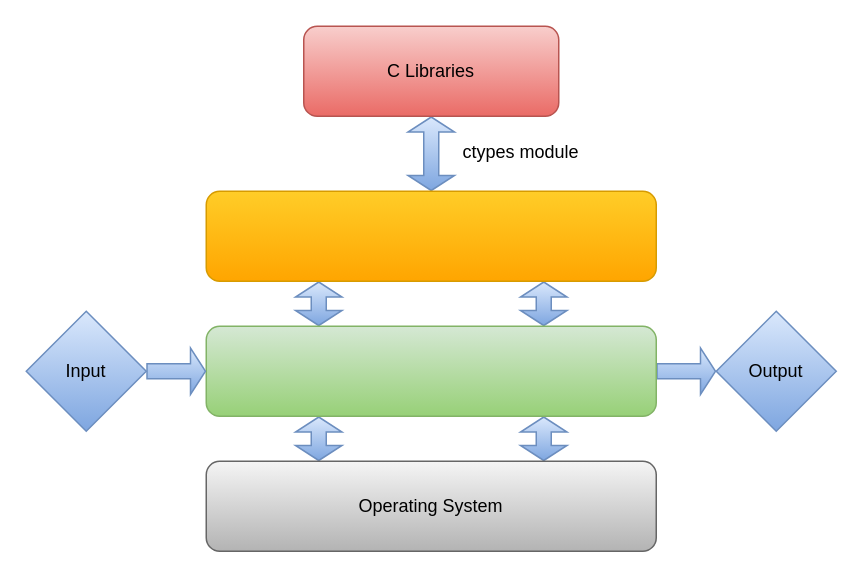
The diagram is 863 pixels wide and 578 high, and some of its shapes have lost their labels. The centre of each missing label's shape, as x and y in pixels:
"Python 3 Wrapper Program" belongs at point 430,235.
"Shell" belongs at point 430,370.
